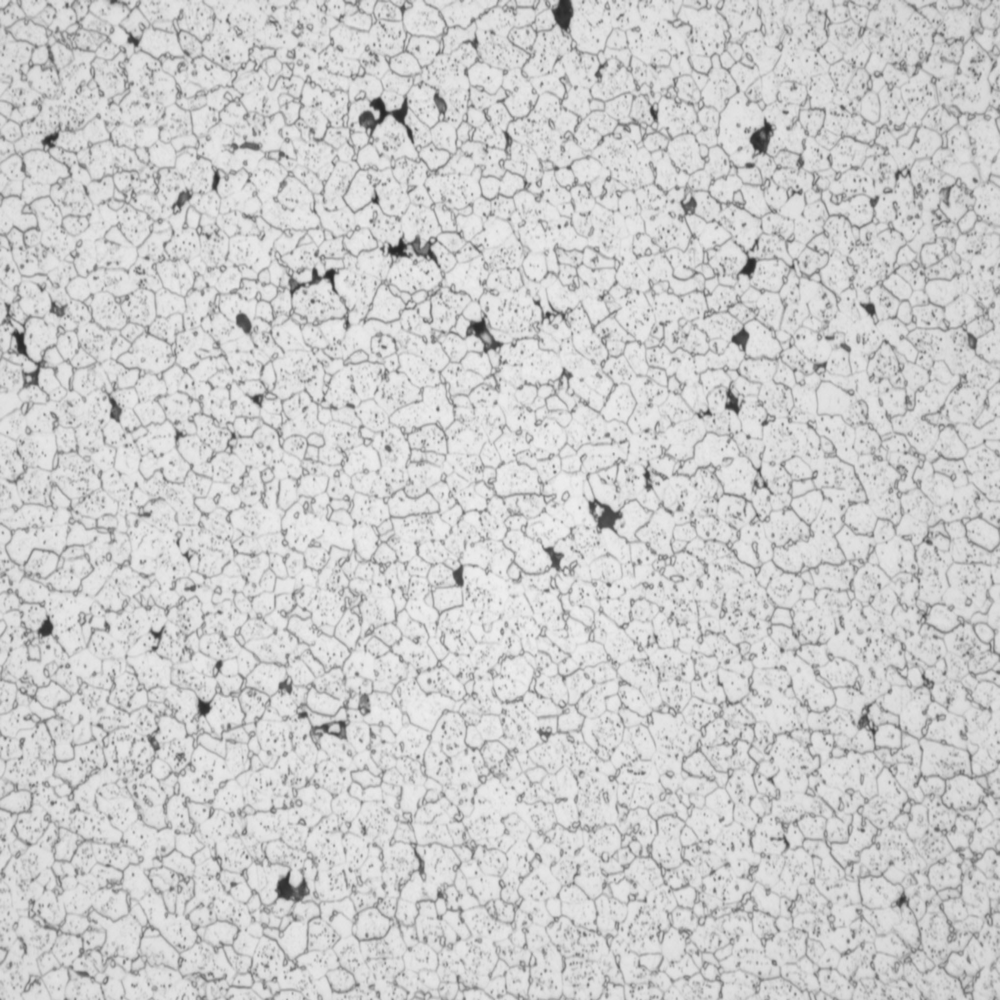crack: (264, 671, 386, 751), (265, 262, 375, 316), (442, 301, 521, 373), (257, 846, 337, 917), (8, 304, 59, 397), (366, 226, 481, 265), (355, 84, 437, 137), (735, 104, 792, 167), (573, 490, 635, 536), (432, 556, 492, 599), (729, 234, 767, 289), (710, 380, 754, 426), (557, 1, 583, 58), (717, 321, 758, 351)
